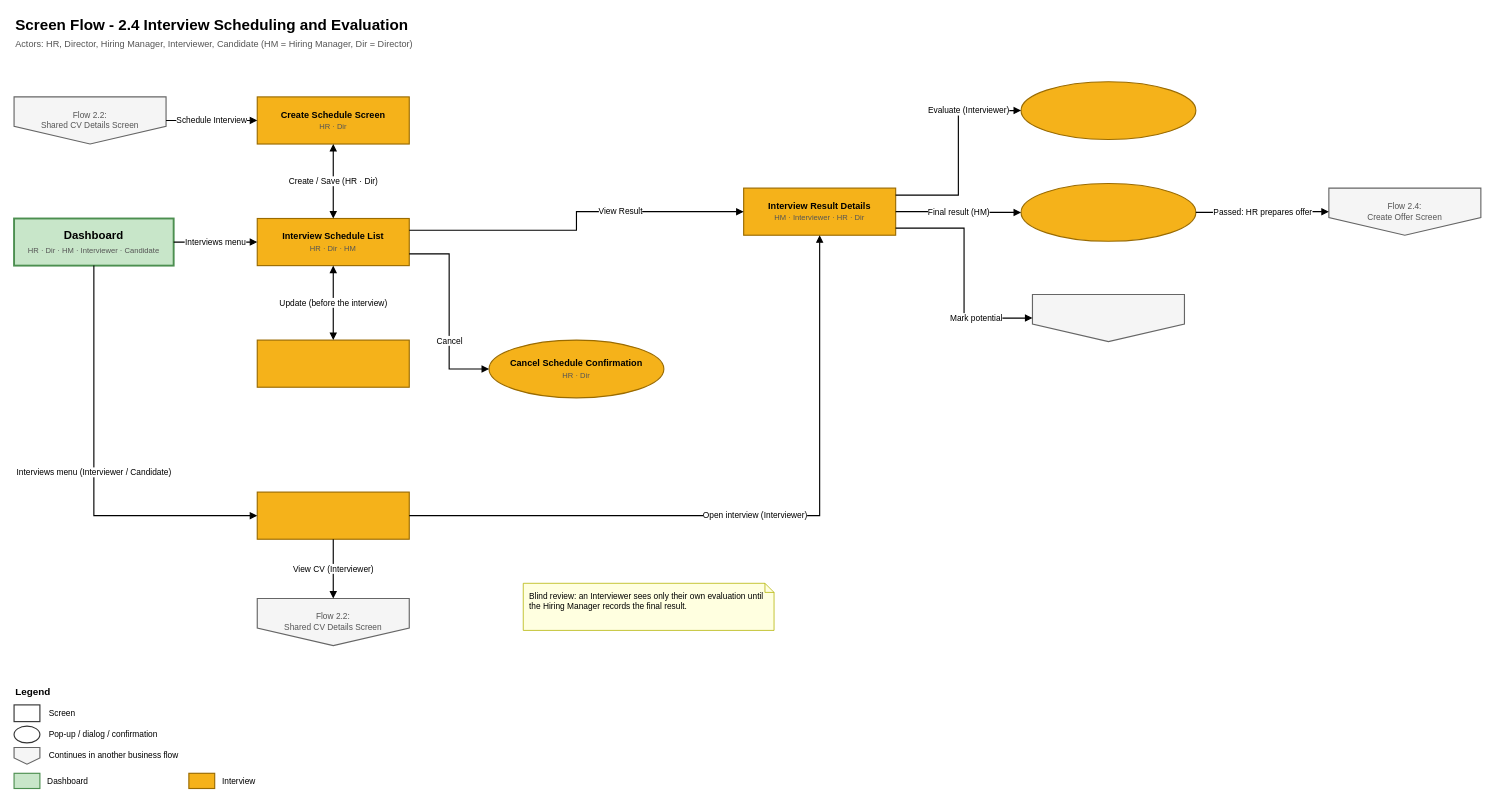
Image size: 1494x802. Some labels were removed from this diagram. The box of each missing label's shape, as (x1, y1, x2, y2) in pixels:
Flow 2.5: Mark Potential Candidate Dialog: (1032, 294, 1185, 342)
My Interview Schedule Candidate · Interviewer: (256, 491, 409, 539)
Record Final Result HM: (1020, 183, 1196, 242)
Submit Evaluation Form Interviewer: (1020, 81, 1196, 140)
Update Schedule Screen HR · Dir: (256, 339, 409, 387)
